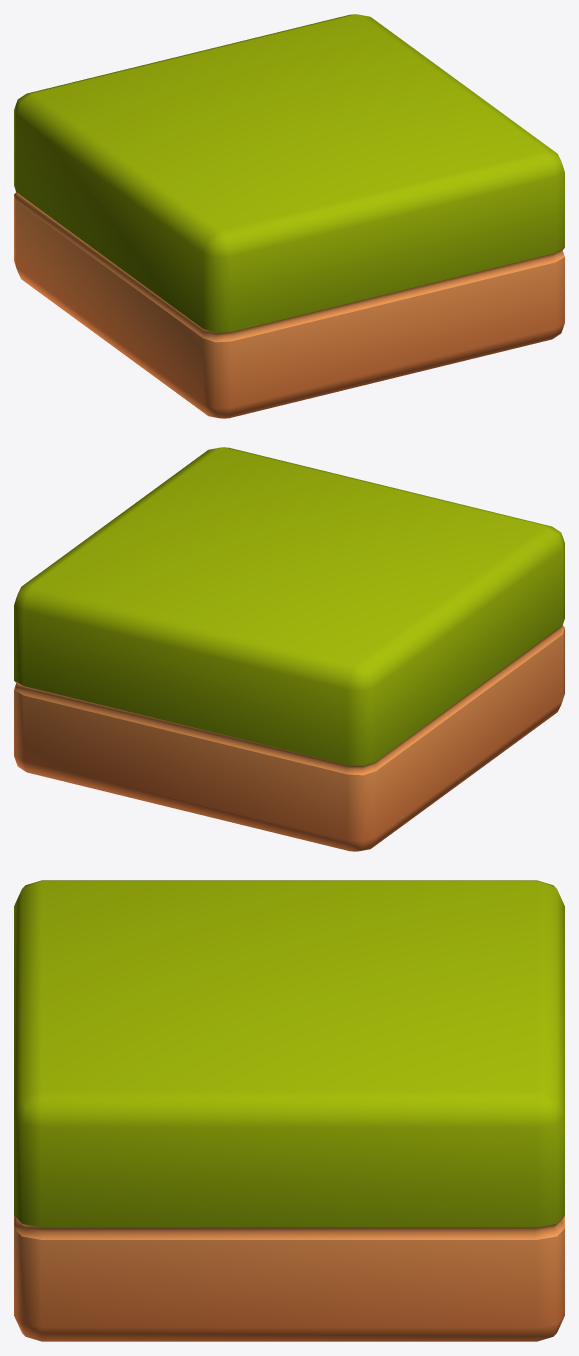
File: 3D_Tile_Ground_01A.fbx
3 views of the same model, one above another, from view 1: azimuth 30°, elevation 25°; view 2: azimuth 150°, elevation 25°; view 3: azimuth 270°, elevation 25° (orthographic). The views are drawn at different scales.
Parts seen in each view (by area): view 1: 3D_Tile_Ground_01A; view 2: 3D_Tile_Ground_01A; view 3: 3D_Tile_Ground_01A.
Part boxes in pixels (box(x1,y1,x2,y2)): 3D_Tile_Ground_01A: box(14, 14, 564, 418); 3D_Tile_Ground_01A: box(14, 447, 564, 851); 3D_Tile_Ground_01A: box(14, 880, 564, 1341).
Size of the model in its own units: 200 by 100 by 200.
